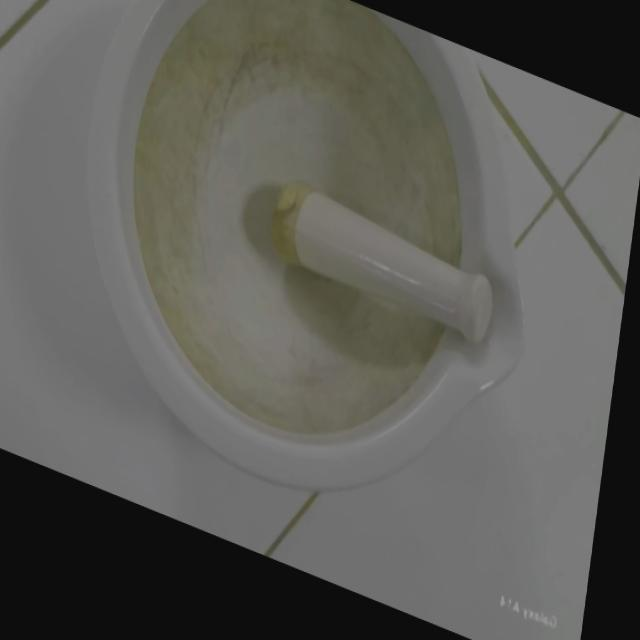Mortar and Pestle: (49, 0, 559, 574)
